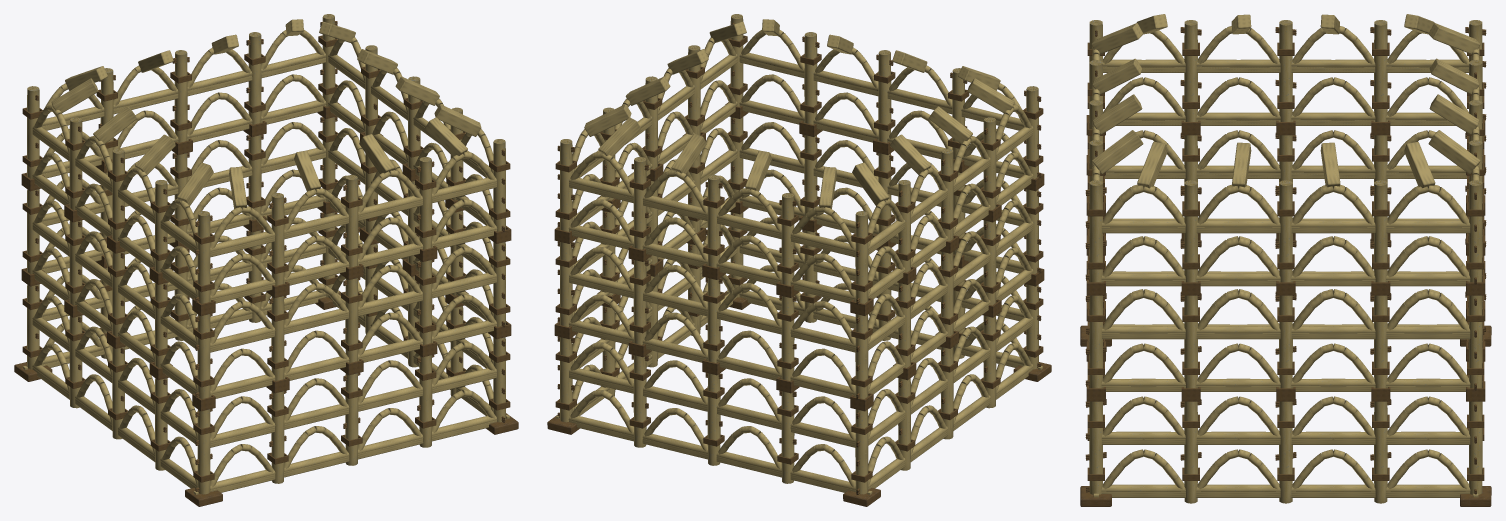
3 views of the same model, side by side, from view 1: azimuth 30°, elevation 25°; view 2: azimuth 150°, elevation 25°; view 3: azimuth 270°, elevation 25° (orthographic). The views are drawn at different scales.
Parts seen in each view (by area): view 1: Tier 2 side 0 post 0, Tier 2 side 2 post 1, Tier 2 side 0 post 1, Tier 2 side 2 post 2, Tier 2 side 0 post 2, Tier 0 side 0 post 1, Tier 0 side 0 post 2, Tier 2 side 0 post 3, Tier 0 side 0 post 0, Tier 1 side 0 post 0, Tier 0 side 0 post 3, Tier 2 side 1 post 0 (+34 smaller); view 2: Tier 2 side 3 post 0, Tier 2 side 2 post 3, Tier 2 side 0 post 3, Tier 2 side 2 post 2, Tier 2 side 0 post 2, Tier 0 side 2 post 3, Tier 2 side 2 post 1, Tier 0 side 2 post 2, Tier 0 side 2 post 1, Tier 0 side 3 post 0, Tier 2 side 2 post 0, Tier 1 side 3 post 0 (+35 smaller); view 3: Tier 2 side 1 post 0, Tier 2 side 1 post 2, Tier 2 side 1 post 3, Tier 0 side 1 post 2, Tier 2 side 1 post 1, Tier 0 side 1 post 3, Tier 0 side 1 post 1, Tier 2 side 3 post 2, Tier 2 side 3 post 1, Tier 2 side 3 post 3, Tier 2 side 2 post 0, Tier 1 side 1 post 0 (+82 smaller).
Boxes of the visible parts, x1,y1,x2,y2 form: Tier 2 side 0 post 0: (197, 211, 210, 303); Tier 2 side 2 post 1: (248, 32, 261, 124); Tier 2 side 0 post 1: (271, 193, 284, 285); Tier 2 side 2 post 2: (174, 50, 187, 142); Tier 2 side 0 post 2: (345, 175, 358, 267); Tier 0 side 0 post 1: (271, 391, 284, 483); Tier 0 side 0 post 2: (345, 373, 358, 465); Tier 2 side 0 post 3: (419, 157, 432, 249); Tier 0 side 0 post 0: (197, 409, 210, 494); Tier 1 side 0 post 0: (197, 314, 210, 399); Tier 0 side 0 post 3: (419, 355, 432, 447); Tier 2 side 1 post 0: (493, 139, 505, 231); Tier 2 side 3 post 0: (855, 211, 868, 303); Tier 2 side 2 post 3: (781, 193, 794, 285); Tier 2 side 0 post 3: (804, 32, 817, 124); Tier 2 side 2 post 2: (707, 175, 720, 267); Tier 2 side 0 post 2: (878, 50, 891, 142); Tier 0 side 2 post 3: (781, 391, 794, 483); Tier 2 side 2 post 1: (633, 157, 646, 249); Tier 0 side 2 post 2: (707, 373, 720, 465); Tier 0 side 2 post 1: (633, 355, 646, 447); Tier 0 side 3 post 0: (855, 409, 868, 494); Tier 2 side 2 post 0: (560, 139, 572, 231); Tier 1 side 3 post 0: (855, 314, 868, 399); Tier 2 side 1 post 0: (1089, 180, 1102, 282); Tier 2 side 1 post 2: (1279, 180, 1292, 282); Tier 2 side 1 post 3: (1374, 180, 1387, 282); Tier 0 side 1 post 2: (1279, 401, 1292, 503); Tier 2 side 1 post 1: (1184, 180, 1197, 282); Tier 0 side 1 post 3: (1374, 401, 1387, 503); Tier 0 side 1 post 1: (1184, 401, 1197, 503); Tier 2 side 3 post 2: (1279, 20, 1292, 121); Tier 2 side 3 post 1: (1374, 20, 1387, 121); Tier 2 side 3 post 3: (1184, 20, 1197, 121); Tier 2 side 2 post 0: (1469, 180, 1482, 282); Tier 1 side 1 post 0: (1089, 295, 1102, 388).
Size of the model in its own units: 1.95 by 1.79 by 1.95.
2 materials, 2 textured.
